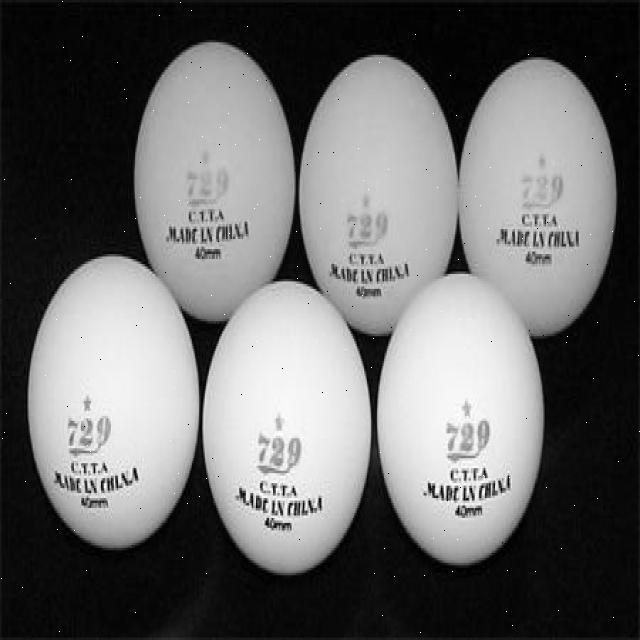ping-pong-ball: (26, 252, 202, 552), (201, 276, 372, 574), (376, 270, 546, 565), (134, 40, 298, 323), (456, 57, 620, 336), (299, 53, 459, 334)
